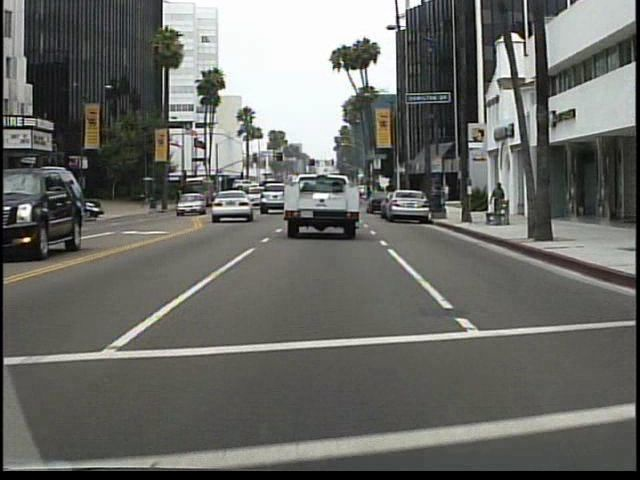person: (488, 181, 507, 221), (139, 189, 150, 213)
